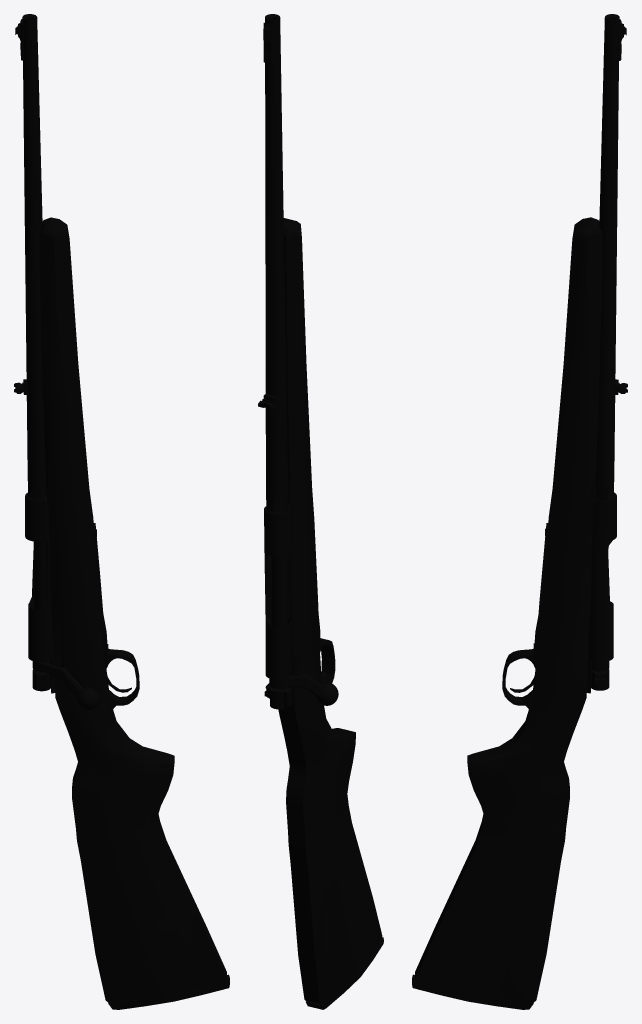
Rendered from Win70.fbx.
3 renders of one model, left to right at view 1: azimuth 90°, elevation 25°; view 2: azimuth 150°, elevation 25°; view 3: azimuth 270°, elevation 25°, orthographic. The views are drawn at different scales.
Parts seen in each view (by area): view 1: asset_Win70.001; view 2: asset_Win70.001; view 3: asset_Win70.001.
Part boxes in pixels (left/top/right/bottom): asset_Win70.001: left=14, top=14, right=229, bottom=1009; asset_Win70.001: left=258, top=14, right=383, bottom=1009; asset_Win70.001: left=412, top=14, right=627, bottom=1009.
Bounding box in the file's own units: 0.0338 × 0.678 × 0.134.
